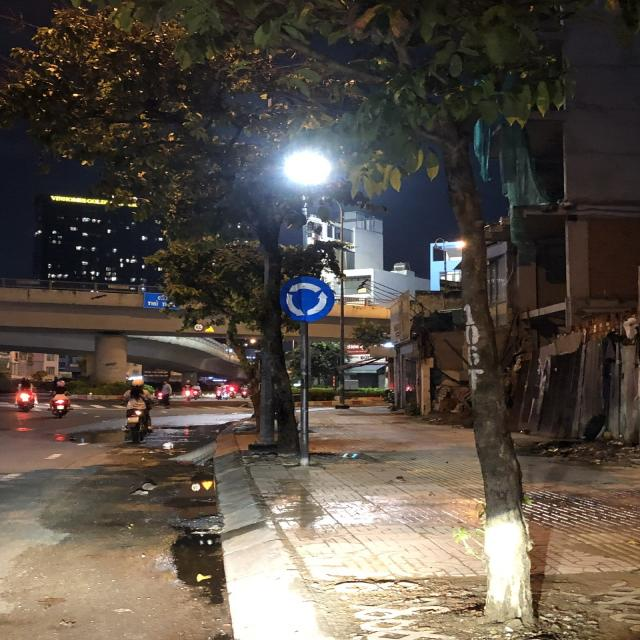Bien bao noi giao nhau chay theo vong xuyen: (278, 273, 339, 325)
